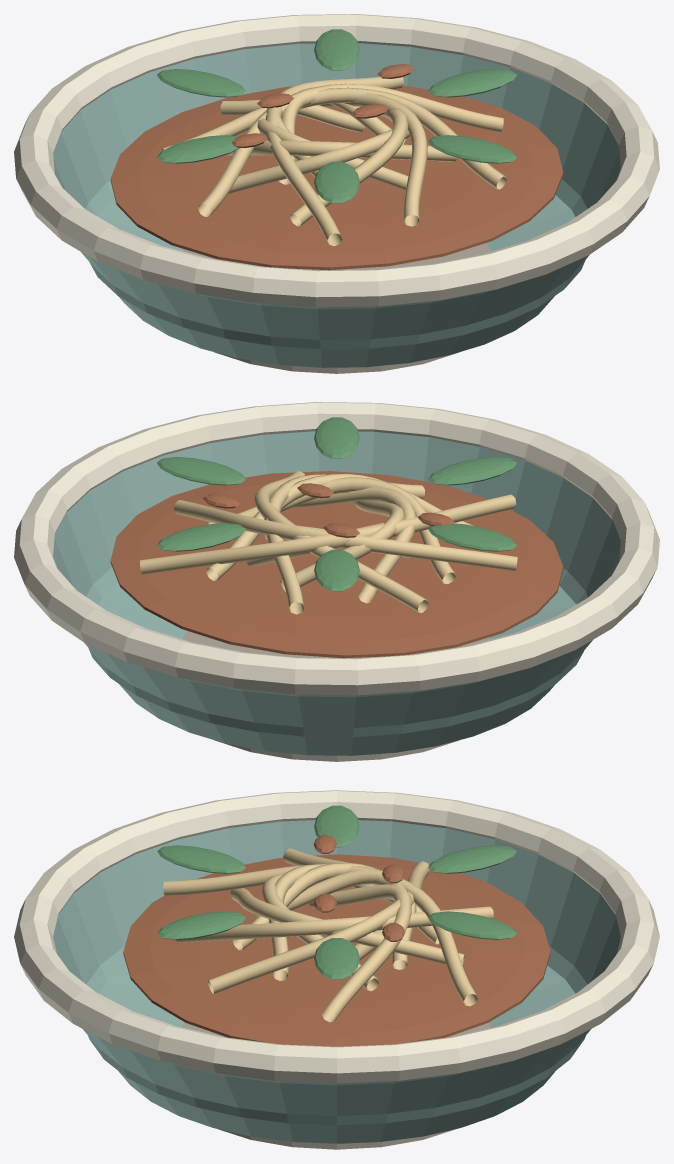
File: mixed_harbour_noodles.glb
The picture shows the model from 3 angles, top to bottom: view 1: azimuth 30°, elevation 25°; view 2: azimuth 150°, elevation 25°; view 3: azimuth 270°, elevation 25°; orthographic projection.
Visible parts, largest first — view 1: noodle_mix_bowl_hollow_profile, noodle_mix_bowl_rolled_lip, shallow_spice_oil, unboiled_wheat_loop_8, unboiled_wheat_loop_7, unboiled_wheat_loop_9, unboiled_wheat_loop_6, unboiled_wheat_loop_4, noodle_mix_bowl_foot_ring, unboiled_wheat_loop_5, unboiled_wheat_loop_3, uncooked_greens_0 (+8 smaller); view 2: noodle_mix_bowl_hollow_profile, noodle_mix_bowl_rolled_lip, shallow_spice_oil, unboiled_wheat_loop_9, unboiled_wheat_loop_8, unboiled_wheat_loop_7, unboiled_wheat_loop_3, noodle_mix_bowl_foot_ring, unboiled_wheat_loop_4, unboiled_wheat_loop_6, uncooked_greens_0, uncooked_greens_4 (+6 smaller); view 3: noodle_mix_bowl_hollow_profile, noodle_mix_bowl_rolled_lip, shallow_spice_oil, unboiled_wheat_loop_9, unboiled_wheat_loop_7, unboiled_wheat_loop_6, unboiled_wheat_loop_8, unboiled_wheat_loop_5, unboiled_wheat_loop_1, uncooked_greens_1, uncooked_greens_5, uncooked_greens_2 (+8 smaller).
Part boxes in pixels (box(x1,y1,x2,y2)): noodle_mix_bowl_hollow_profile: box(53, 43, 620, 367); noodle_mix_bowl_rolled_lip: box(14, 14, 659, 307); shallow_spice_oil: box(110, 85, 563, 270); unboiled_wheat_loop_8: box(198, 83, 503, 216); unboiled_wheat_loop_7: box(162, 87, 506, 189); unboiled_wheat_loop_9: box(265, 76, 403, 246); unboiled_wheat_loop_6: box(220, 93, 427, 226); unboiled_wheat_loop_4: box(228, 126, 423, 193); noodle_mix_bowl_foot_ring: box(183, 243, 491, 373); unboiled_wheat_loop_5: box(290, 109, 408, 226); unboiled_wheat_loop_3: box(225, 140, 456, 161); uncooked_greens_0: box(428, 69, 516, 97); noodle_mix_bowl_hollow_profile: box(53, 431, 620, 755); noodle_mix_bowl_rolled_lip: box(14, 402, 659, 695); shallow_spice_oil: box(110, 471, 563, 658); unboiled_wheat_loop_9: box(140, 494, 516, 574); unboiled_wheat_loop_8: box(174, 500, 517, 571); unboiled_wheat_loop_7: box(254, 471, 428, 612); unboiled_wheat_loop_3: box(291, 487, 416, 603); noodle_mix_bowl_foot_ring: box(182, 631, 490, 761); unboiled_wheat_loop_4: box(208, 477, 455, 584); unboiled_wheat_loop_6: box(264, 474, 424, 614); uncooked_greens_0: box(157, 457, 245, 485); uncooked_greens_4: box(428, 457, 516, 485); noodle_mix_bowl_hollow_profile: box(53, 820, 620, 1143); noodle_mix_bowl_rolled_lip: box(14, 790, 659, 1083); shallow_spice_oil: box(123, 854, 550, 1046); unboiled_wheat_loop_9: box(163, 864, 477, 1006); unboiled_wheat_loop_7: box(208, 861, 429, 993); unboiled_wheat_loop_6: box(176, 906, 493, 942); unboiled_wheat_loop_8: box(283, 848, 411, 1022); unboiled_wheat_loop_5: box(230, 888, 464, 964); unboiled_wheat_loop_1: box(257, 869, 416, 969); uncooked_greens_1: box(428, 911, 516, 939); uncooked_greens_5: box(157, 911, 245, 939); uncooked_greens_2: box(428, 845, 516, 873).
Size of the model in its own units: 0.6613 by 0.216 by 0.6613.
